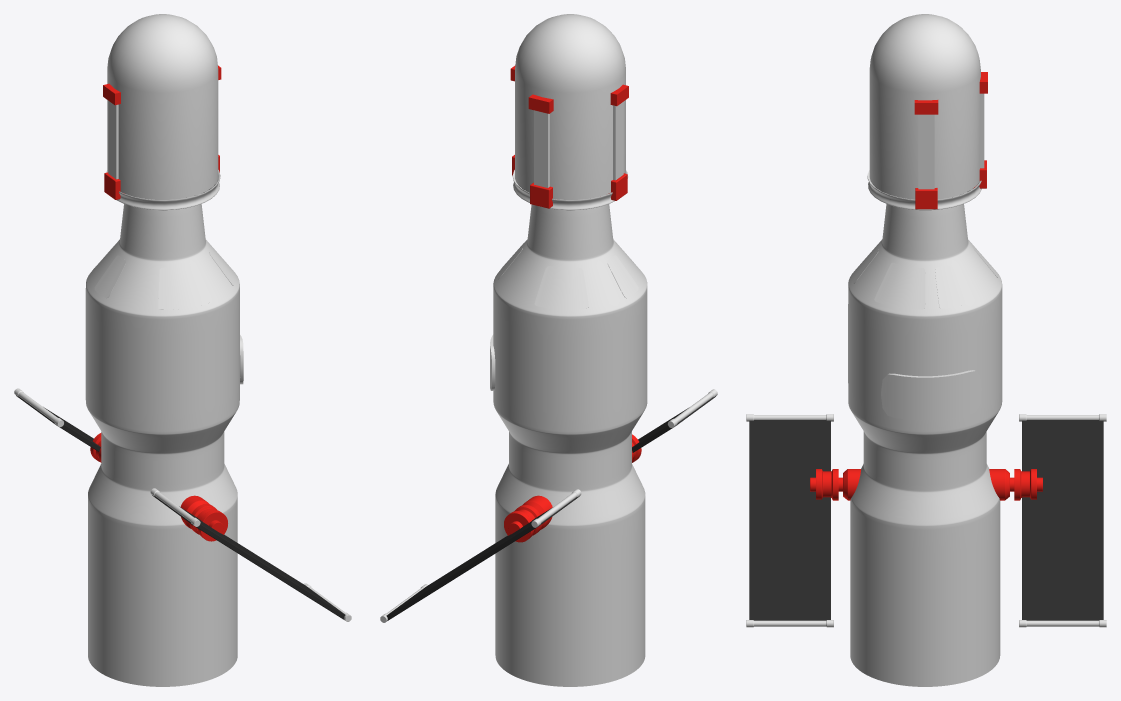
File: Ship_01.fbx
3 views of the same model, side by side, from view 1: azimuth 30°, elevation 25°; view 2: azimuth 150°, elevation 25°; view 3: azimuth 270°, elevation 25° (orthographic).
Parts seen in each view (by area): view 1: Fuselage, Dome, ShipPanels, Plane.003, SolarPanelArms, FloorTrimEmissive, ChargePillar1, Cylinder.073; view 2: Fuselage, Dome, ShipPanels, Plane.003, ChargePillar2, SolarPanelArms, ChargePillar1, Cylinder.073, FloorTrimEmissive; view 3: Fuselage, Plane.003, Dome, ShipPanels, SolarPanelArms, Cylinder.073, ChargePillar3, FloorTrimEmissive, ChargePillar2.
Part boxes in pixels (x1=…): Fuselage: x1=85, y1=204, x2=239, y2=686; Dome: x1=107, y1=14, x2=218, y2=199; ShipPanels: x1=93, y1=243, x2=243, y2=384; Plane.003: x1=16, y1=395, x2=345, y2=619; SolarPanelArms: x1=90, y1=433, x2=227, y2=541; FloorTrimEmissive: x1=105, y1=170, x2=220, y2=210; ChargePillar1: x1=103, y1=83, x2=120, y2=179; Cylinder.073: x1=14, y1=388, x2=351, y2=621; Fuselage: x1=493, y1=204, x2=647, y2=686; Dome: x1=515, y1=14, x2=625, y2=199; ShipPanels: x1=490, y1=242, x2=638, y2=390; Plane.003: x1=386, y1=396, x2=715, y2=620; ChargePillar2: x1=528, y1=94, x2=553, y2=187; SolarPanelArms: x1=504, y1=434, x2=641, y2=542; ChargePillar1: x1=610, y1=84, x2=628, y2=180; Cylinder.073: x1=380, y1=389, x2=717, y2=622; FloorTrimEmissive: x1=512, y1=170, x2=627, y2=210; Fuselage: x1=848, y1=204, x2=1002, y2=686; Plane.003: x1=749, y1=420, x2=1103, y2=620; Dome: x1=869, y1=14, x2=980, y2=199; ShipPanels: x1=852, y1=245, x2=997, y2=420; SolarPanelArms: x1=810, y1=469, x2=1042, y2=500; Cylinder.073: x1=746, y1=414, x2=1106, y2=627; ChargePillar3: x1=914, y1=100, x2=938, y2=189; FloorTrimEmissive: x1=867, y1=170, x2=981, y2=210; ChargePillar2: x1=979, y1=72, x2=987, y2=168.
Bounding box in the file's own units: 1520 × 5553 × 2849.
